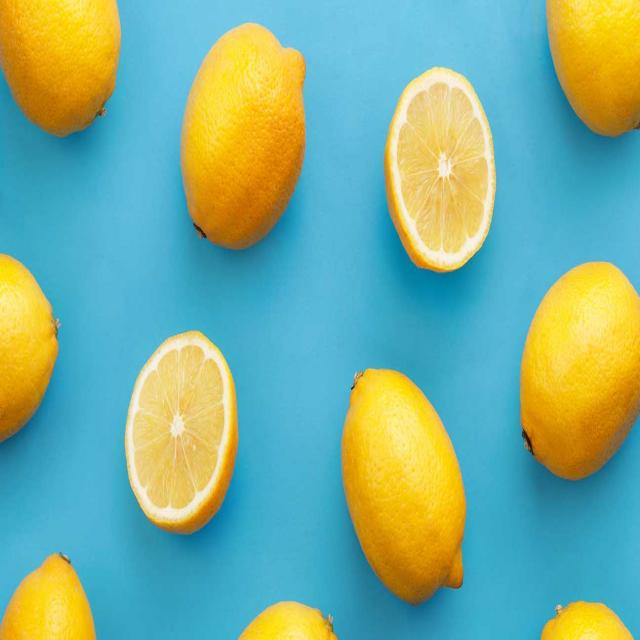lemon: (182, 21, 309, 254), (344, 369, 468, 605), (518, 259, 640, 480), (124, 328, 239, 538), (384, 64, 494, 262), (0, 0, 121, 136), (545, 0, 640, 136), (1, 248, 62, 446), (0, 552, 96, 640), (234, 599, 338, 640), (541, 601, 636, 640)
